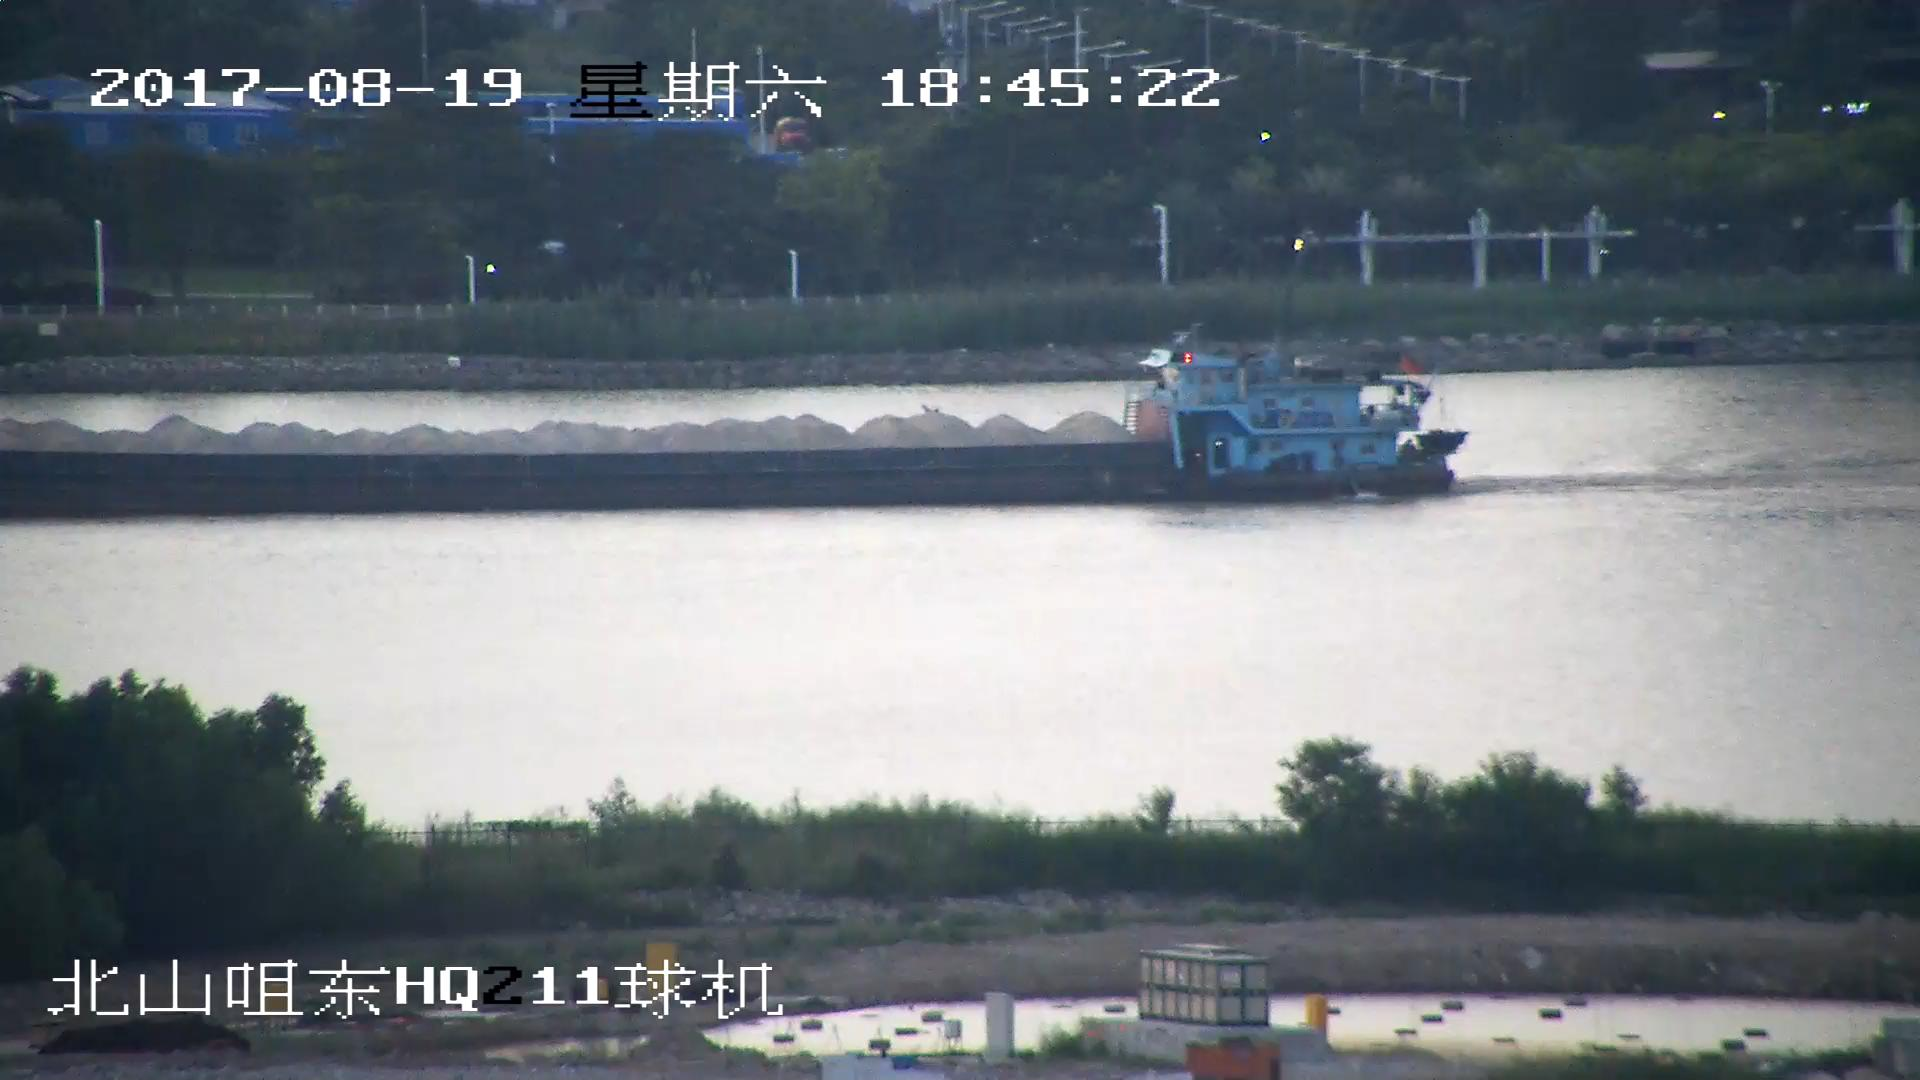ore carrier: (1, 321, 1464, 515)
